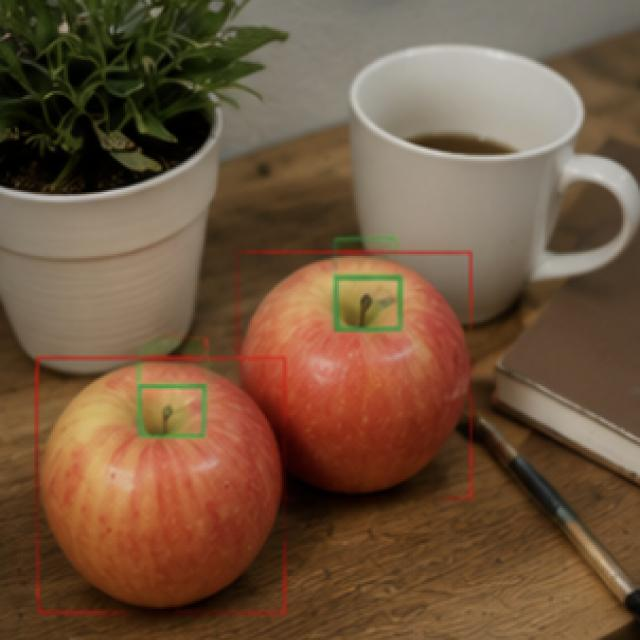Fruit-Stem-Detection: (138, 384, 214, 442), (338, 274, 402, 330)
